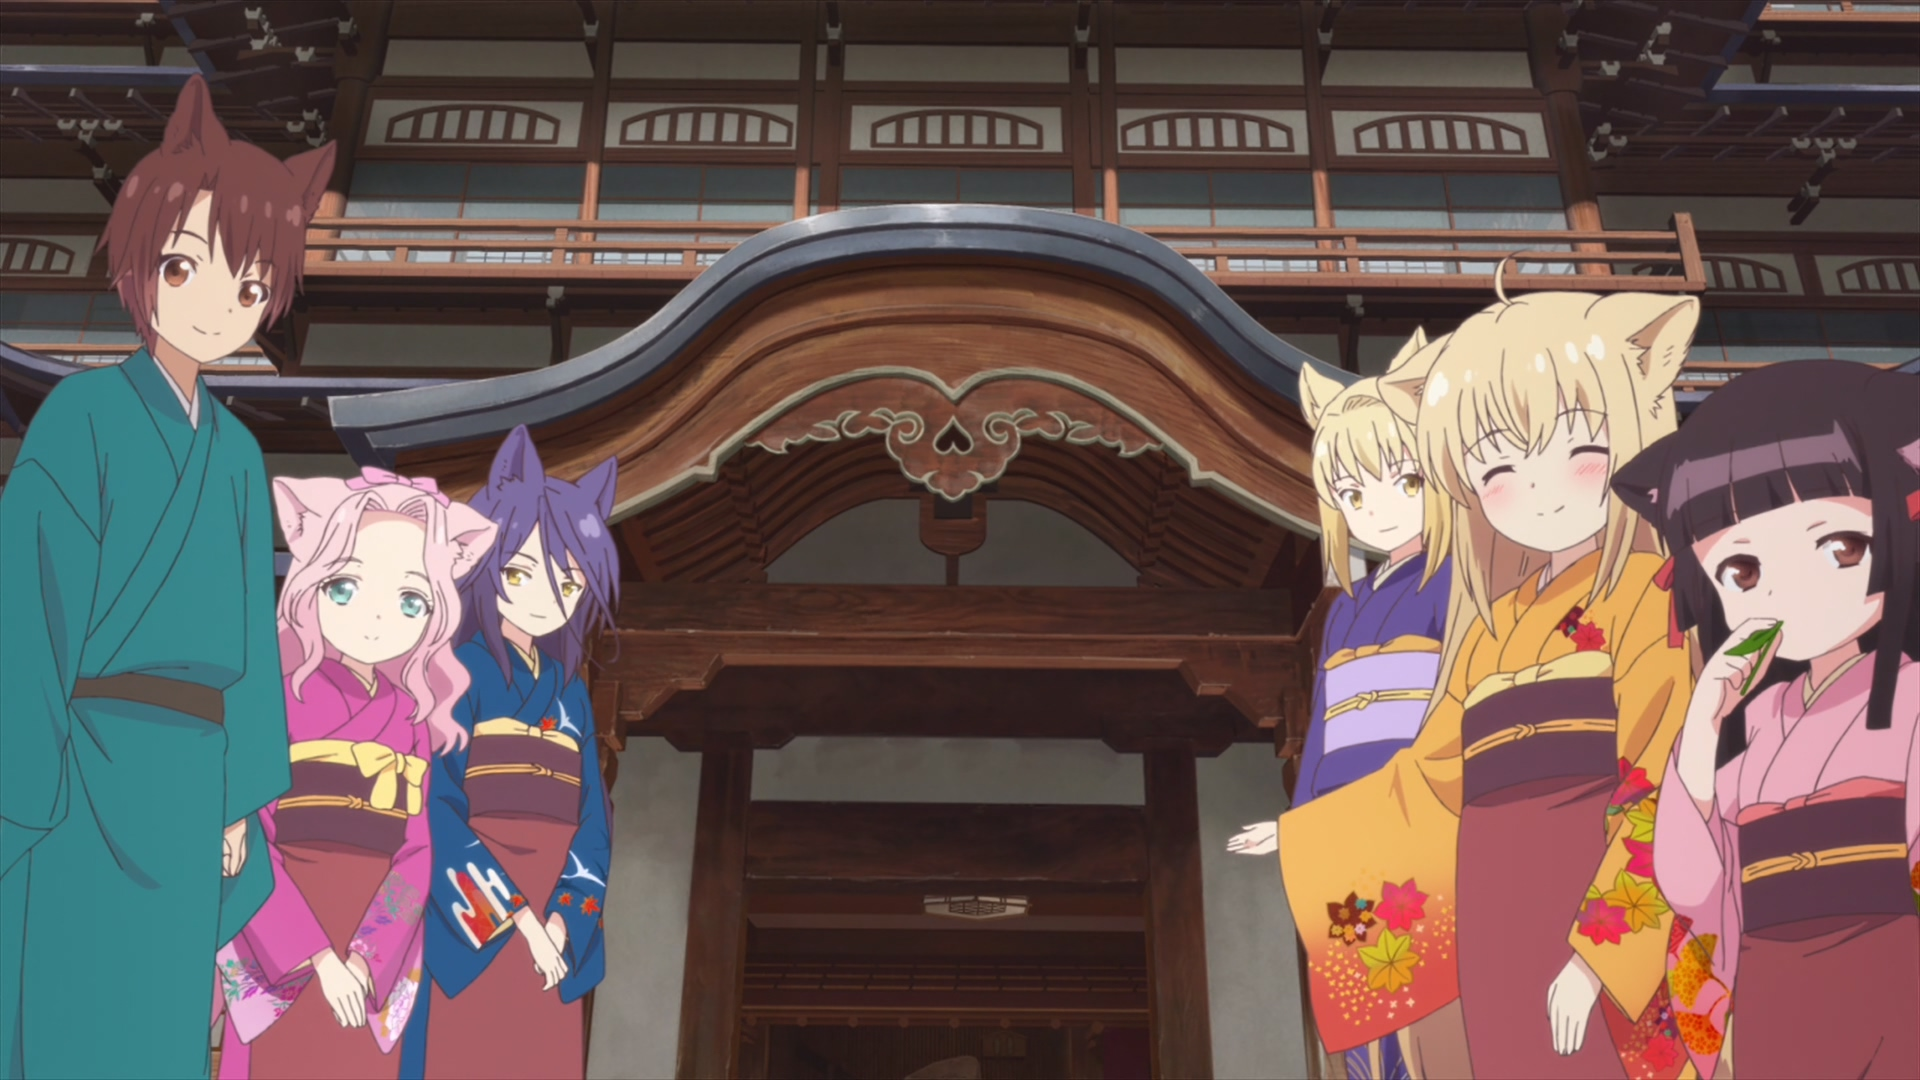枣: (1, 75, 339, 1080)
柚: (1226, 255, 1700, 1080)
桐: (1287, 324, 1451, 1080)
樱: (1611, 360, 1920, 1080)
皋: (402, 423, 620, 1080)
莲: (212, 465, 498, 1080)
